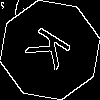K: (25, 25, 81, 77)
